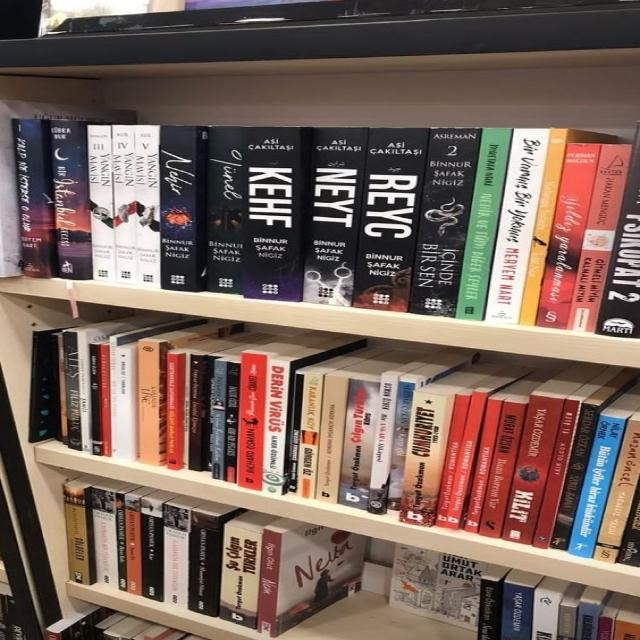book: (353, 127, 429, 312), (409, 128, 482, 318), (485, 129, 550, 324), (567, 145, 632, 331), (537, 143, 601, 329), (302, 127, 368, 306), (243, 126, 306, 302), (457, 129, 512, 320), (519, 128, 567, 325), (503, 394, 563, 544), (568, 415, 626, 558), (550, 403, 600, 551), (207, 126, 249, 294), (533, 399, 580, 549), (49, 119, 92, 280), (593, 420, 640, 563), (400, 391, 448, 527), (478, 401, 524, 538), (444, 391, 489, 529), (12, 118, 49, 279), (162, 126, 196, 292), (464, 399, 502, 533), (339, 379, 376, 510), (433, 394, 469, 526), (218, 524, 263, 629), (88, 125, 116, 281), (367, 374, 397, 515), (238, 352, 267, 490), (135, 125, 160, 285), (261, 359, 290, 496), (315, 374, 346, 502), (387, 376, 416, 511), (113, 125, 137, 282), (297, 372, 322, 499), (188, 510, 217, 617), (90, 487, 118, 589), (63, 484, 89, 585), (165, 504, 189, 608), (140, 498, 163, 603), (139, 341, 158, 465), (260, 528, 281, 637), (187, 354, 206, 471), (63, 330, 81, 450), (114, 348, 133, 461), (287, 371, 304, 493), (223, 362, 239, 483), (213, 359, 227, 480), (88, 343, 102, 455), (166, 353, 178, 470), (127, 496, 141, 595), (101, 344, 110, 456), (117, 493, 127, 591)
